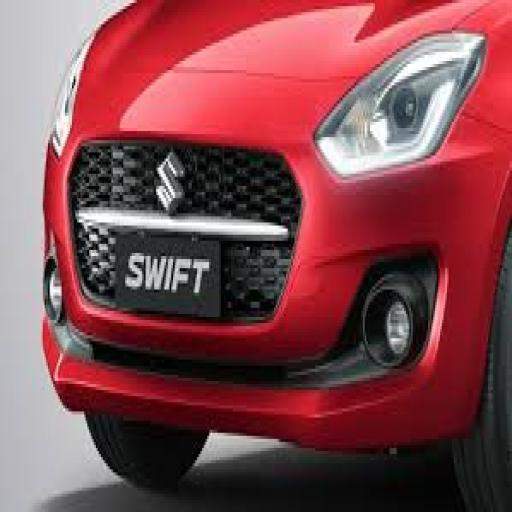car: (41, 3, 512, 493)
